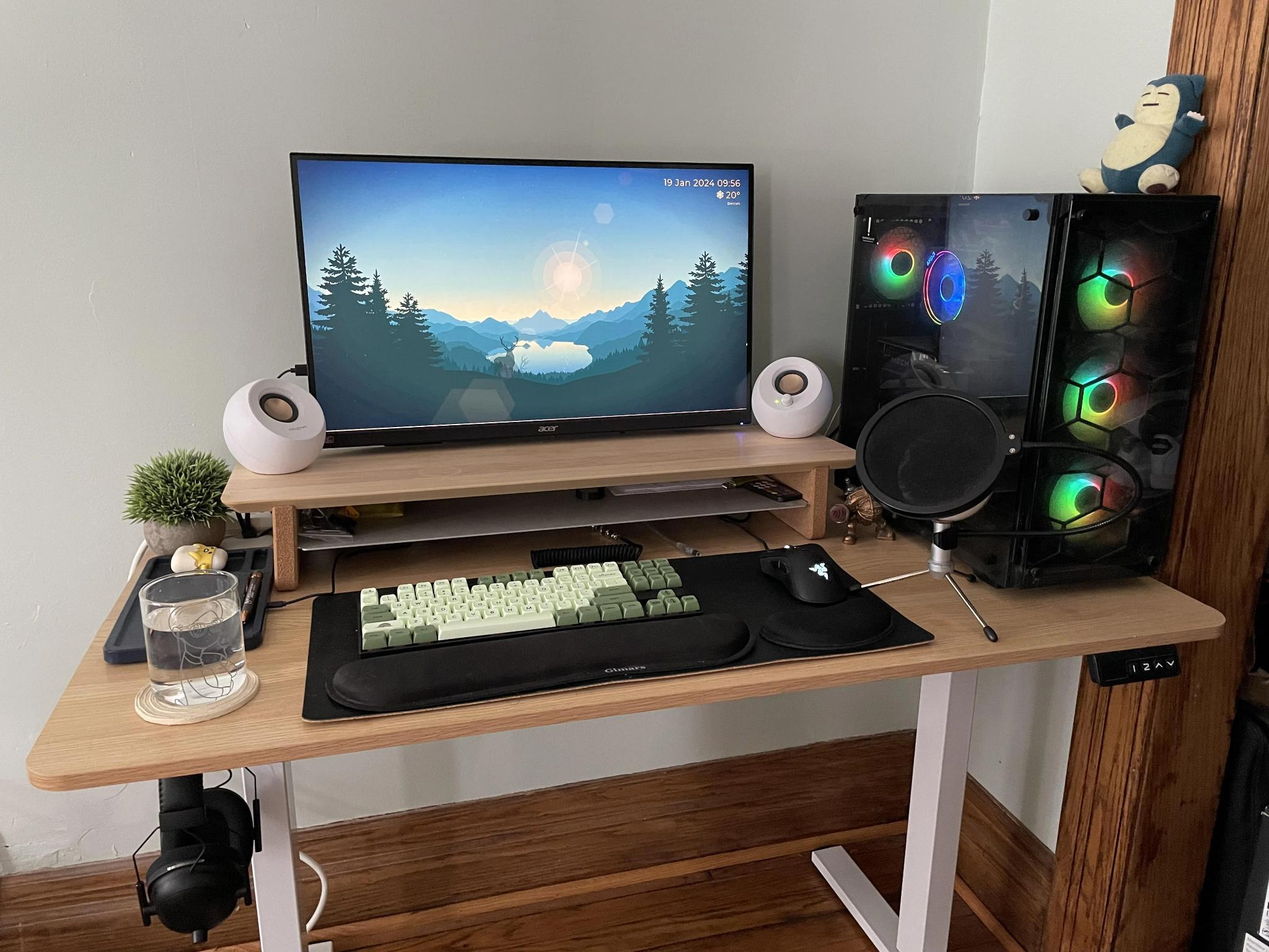head_phone: (115, 770, 269, 941)
keyboard: (345, 540, 739, 676)
mic: (836, 369, 1041, 624)
monitor: (282, 129, 768, 444)
mouse: (749, 528, 868, 639)
pc: (834, 175, 1242, 598)
speaker: (201, 354, 345, 491), (722, 320, 856, 456)
